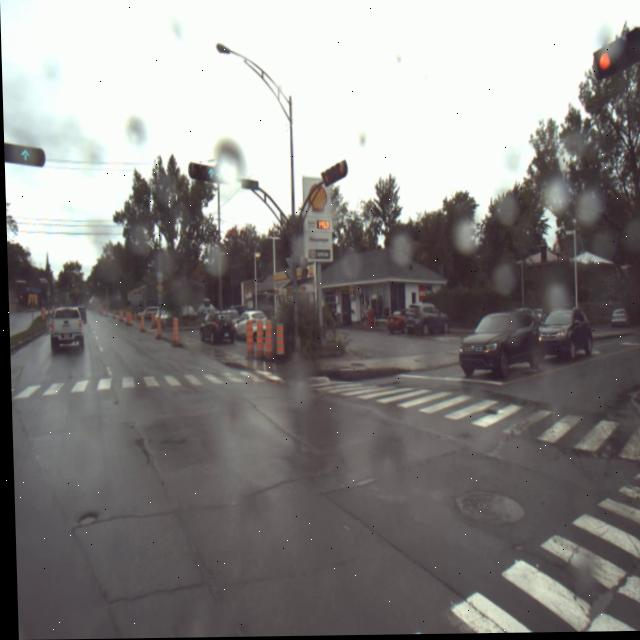car: (456, 312, 540, 381), (593, 4, 640, 82), (538, 310, 594, 363), (46, 307, 84, 354), (403, 304, 448, 337), (197, 312, 233, 346), (232, 312, 267, 342), (320, 162, 347, 187), (385, 311, 405, 338), (608, 308, 626, 328)
trafficLight-Green: (10, 143, 37, 168), (202, 165, 225, 185)
